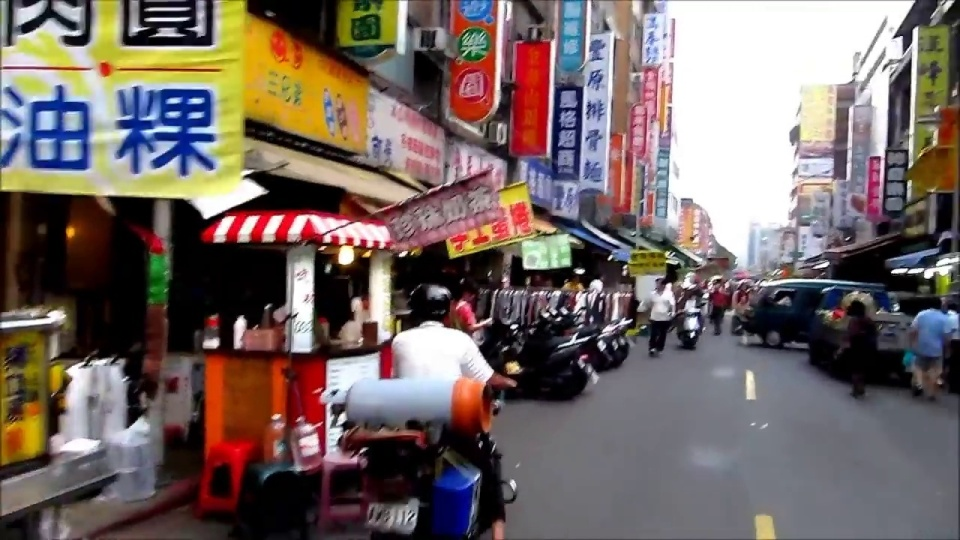person_head: (412, 286, 450, 324), (455, 279, 478, 302), (651, 276, 669, 291), (925, 297, 942, 310), (738, 283, 748, 293)
person_vbox: (389, 283, 510, 540), (906, 297, 955, 400), (843, 301, 879, 402), (639, 273, 677, 360), (450, 276, 490, 344), (732, 280, 755, 345), (706, 279, 729, 337)
